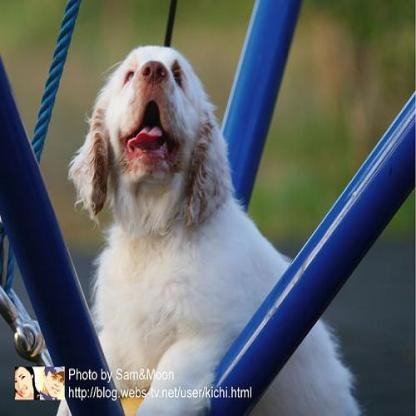clumber: (69, 45, 364, 414)
